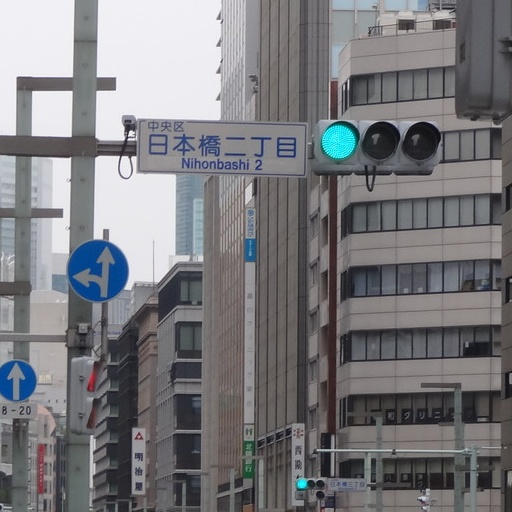Traffic_Signal_Blue: (316, 116, 441, 167)
